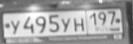license-plateSW: (3, 8, 124, 39)
